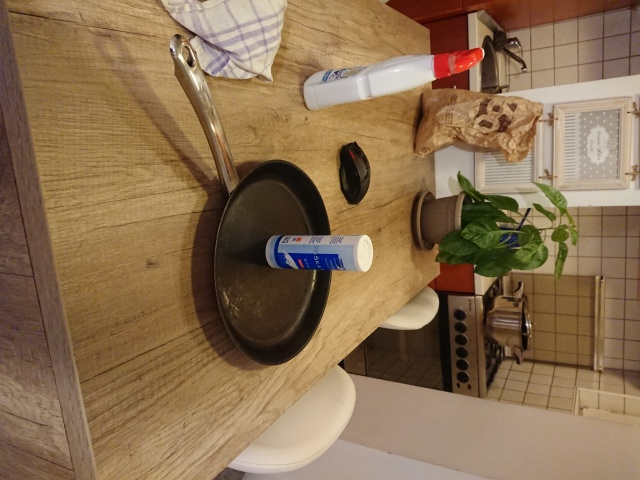Solana Pag Fine Sea Salt 250g: (262, 232, 376, 275)
